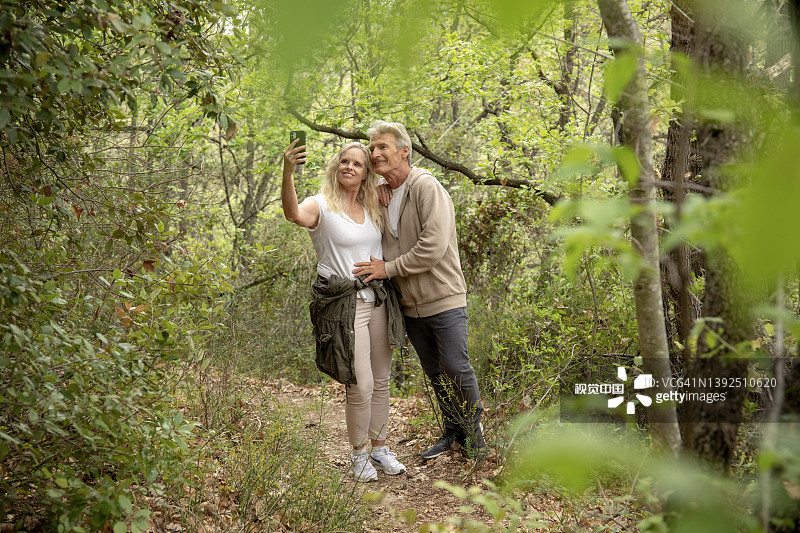no-phone: (348, 252, 395, 287)
taking photos: (278, 120, 312, 181)
